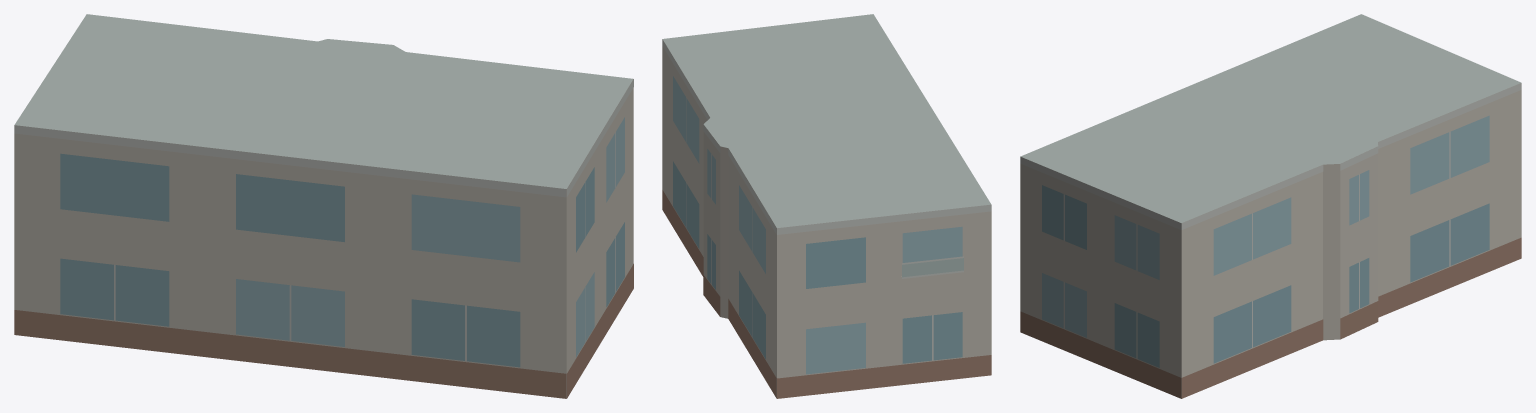
The model's file is survey-upis-32619268.glb.
3 renders of one model, left to right at view 1: azimuth 30°, elevation 25°; view 2: azimuth 150°, elevation 25°; view 3: azimuth 270°, elevation 25°, orthographic. The views are drawn at different scales.
Parts seen in each view (by area): view 1: survey-upis-32619268.tmp; view 2: survey-upis-32619268.tmp; view 3: survey-upis-32619268.tmp.
Part boxes in pixels (bbox=[...]): survey-upis-32619268.tmp: bbox=[14, 14, 633, 398]; survey-upis-32619268.tmp: bbox=[662, 14, 991, 398]; survey-upis-32619268.tmp: bbox=[1020, 14, 1521, 398].
Size of the model in its own units: 15.59 by 6.1 by 15.79.
